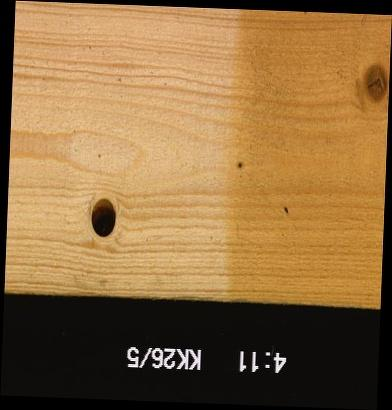small_knot: (233, 158, 245, 173)
sound_knot: (361, 59, 388, 106)
